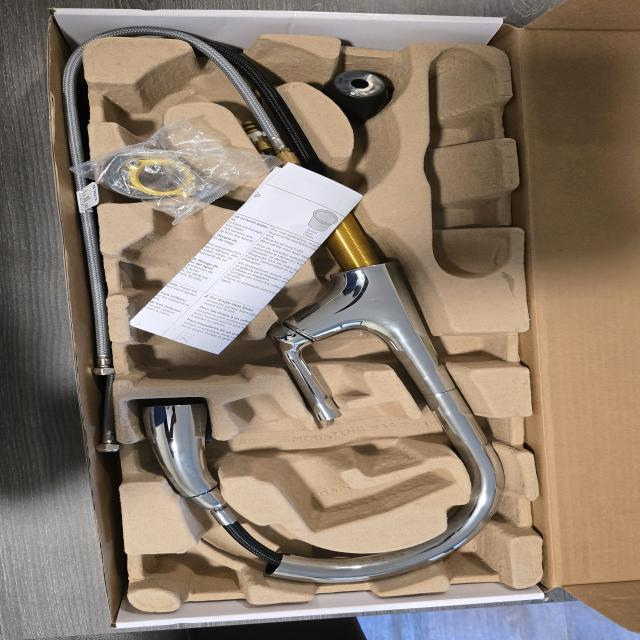1o: (140, 40, 507, 585)
2m: (226, 391, 458, 533)
3m: (121, 207, 248, 386)
4m: (427, 48, 509, 279)
5: (319, 70, 391, 125)
6: (70, 116, 283, 226)
7m: (104, 64, 197, 139)
8: (128, 162, 364, 355)
